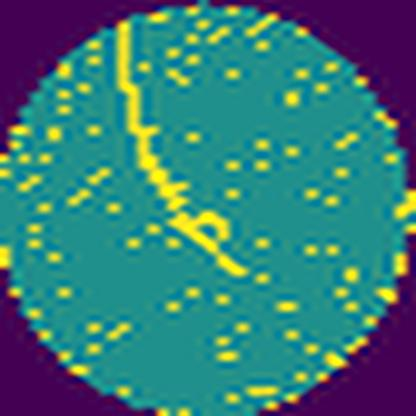Scratch: (112, 17, 254, 283)
